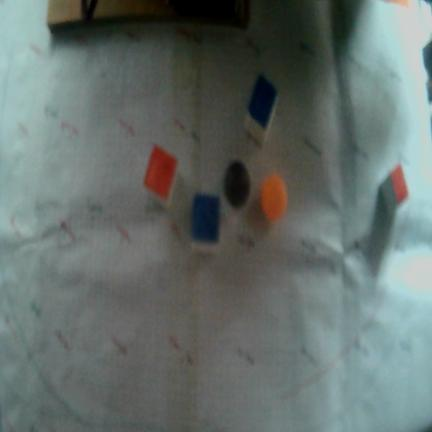circle_blue: (224, 162, 250, 209)
circle_orange: (261, 176, 287, 222)
rectangle_blue: (249, 76, 278, 128)
rectangle_orange: (391, 163, 410, 206)
square_blue: (190, 194, 220, 251)
square_orange: (143, 146, 177, 201)
